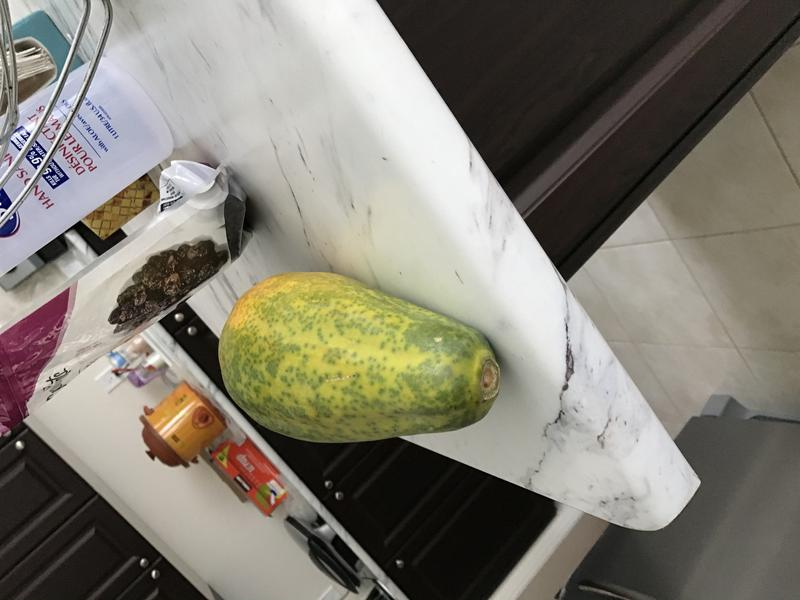papaya: (212, 265, 514, 454)
